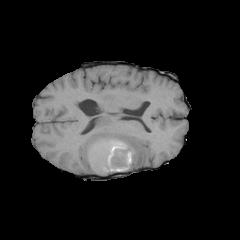glioma: (82, 116, 146, 175)
